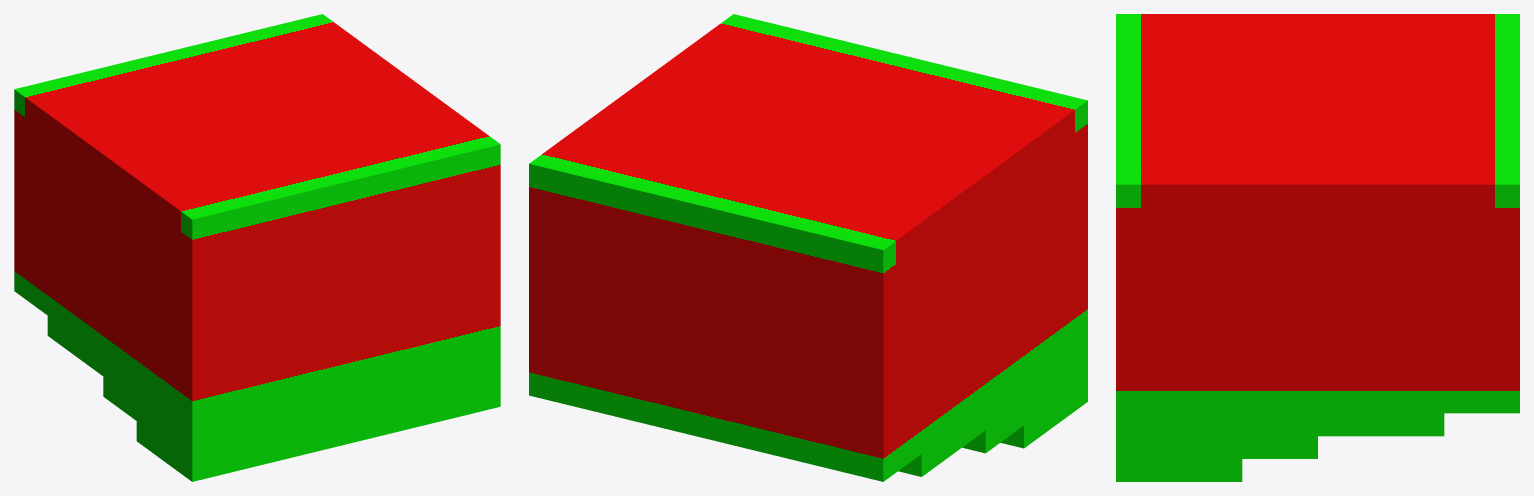
Rendered from Boat_Front_1.fbx.
The picture shows the model from 3 angles, left to right: view 1: azimuth 30°, elevation 25°; view 2: azimuth 150°, elevation 25°; view 3: azimuth 270°, elevation 25°; orthographic projection. The views are drawn at different scales.
Visible parts, largest first — view 1: Boat_Front_1.001; view 2: Boat_Front_1.001; view 3: Boat_Front_1.001.
Boxes of the visible parts, x1=… form: Boat_Front_1.001: x1=14, y1=14, x2=500, y2=481; Boat_Front_1.001: x1=529, y1=14, x2=1087, y2=481; Boat_Front_1.001: x1=1116, y1=14, x2=1519, y2=481.
Size of the model in its own units: 1.6 by 1.3 by 1.6.
1 material, 1 textured.
